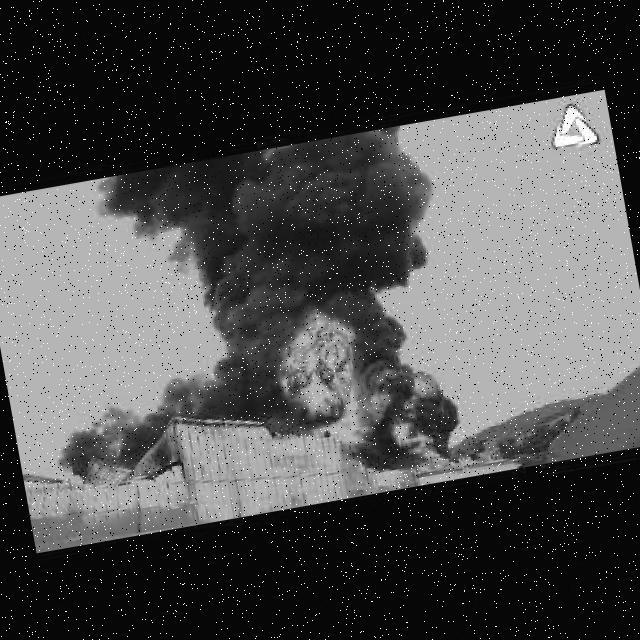Fire: (273, 305, 374, 454), (381, 359, 454, 467)
Smoke: (90, 118, 463, 352), (39, 344, 295, 486)
